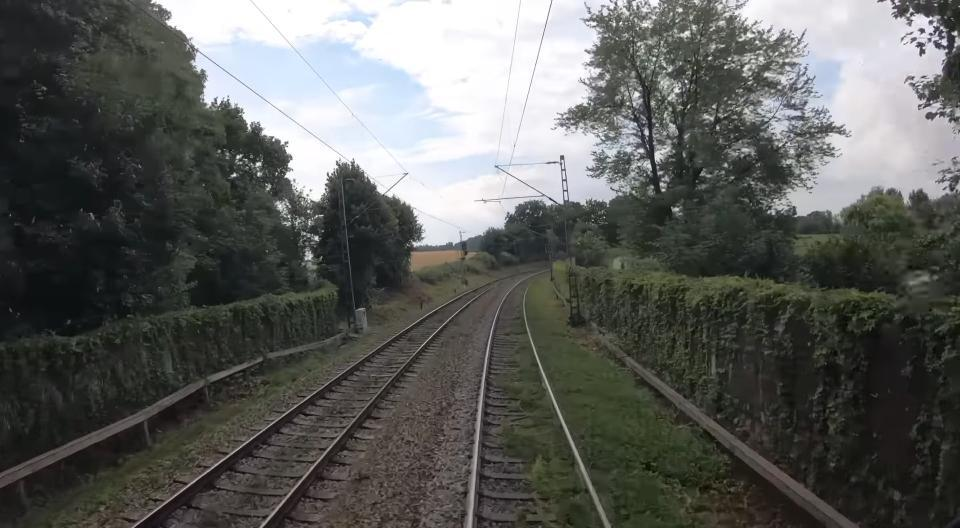Plant: (527, 278, 812, 528), (493, 315, 606, 528), (406, 294, 474, 341), (355, 371, 371, 388), (396, 341, 405, 350)
